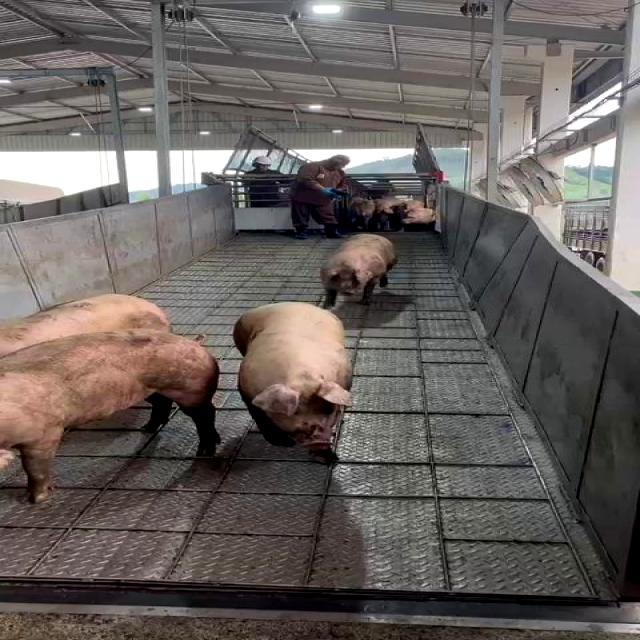pig: (0, 329, 220, 502), (234, 302, 351, 462), (0, 294, 170, 356), (321, 234, 399, 307)
